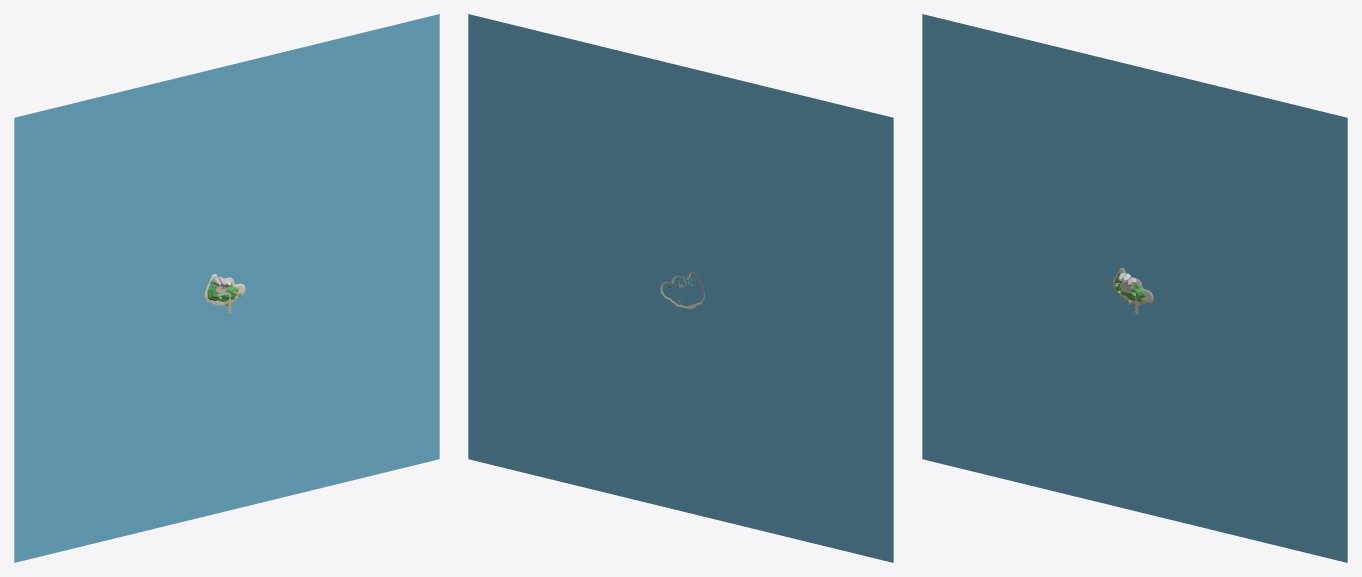
Rendered from modular_terrain_island.glb.
3 views of the same model, side by side, from view 1: azimuth 30°, elevation 25°; view 2: azimuth 150°, elevation 25°; view 3: azimuth 330°, elevation 25° (orthographic).
Parts seen in each view (by area): view 1: object1.009; view 2: object1.009; view 3: object1.009.
Boxes of the visible parts, box(x1,y1,x2,y2) form: object1.009: box(14, 14, 439, 562); object1.009: box(468, 14, 893, 562); object1.009: box(922, 14, 1347, 562).
Bounding box in the file's own units: 300 × 300 × 7.8.
